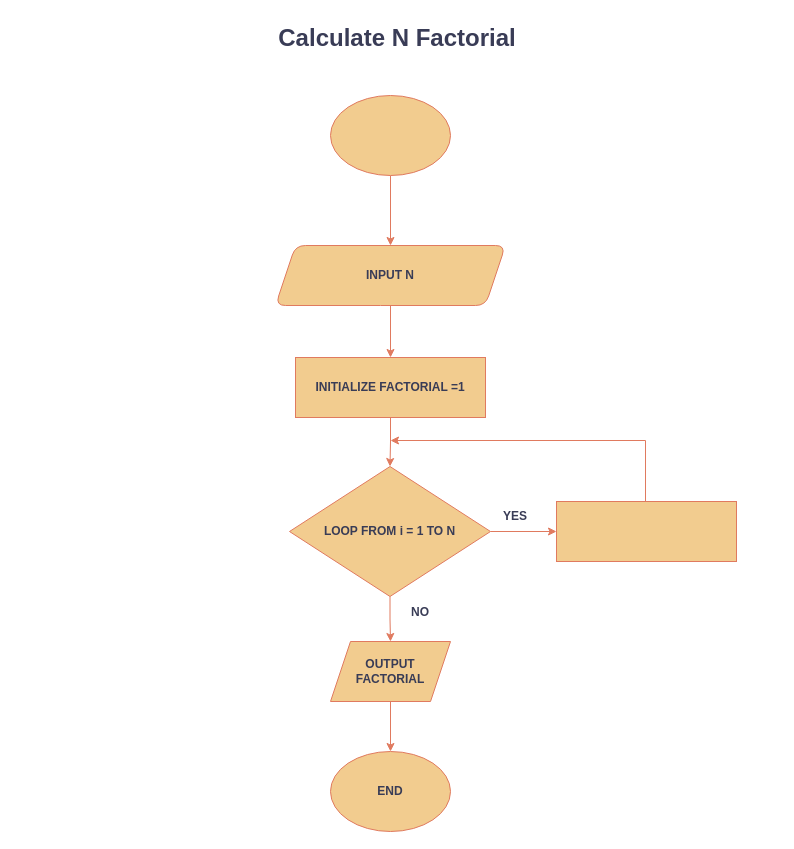
Image size: 794x849. Some labels were removed from this diagram. The box of each missing label's shape, as (x1, y1, x2, y2) in pixels:
FACTORIAL = FACTORIAL * i: (556, 500, 736, 562)
START: (330, 94, 450, 176)
